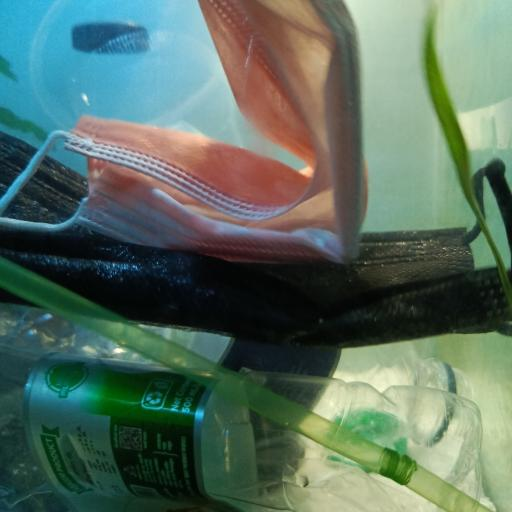bottle_cap: (334, 407, 406, 467), (74, 22, 146, 53)
mask: (1, 132, 512, 346), (1, 0, 371, 270)
plastic_bottle: (0, 350, 486, 512), (7, 306, 470, 448)
plastic_cup: (29, 0, 272, 156)
plastic_straw: (0, 252, 494, 511)
